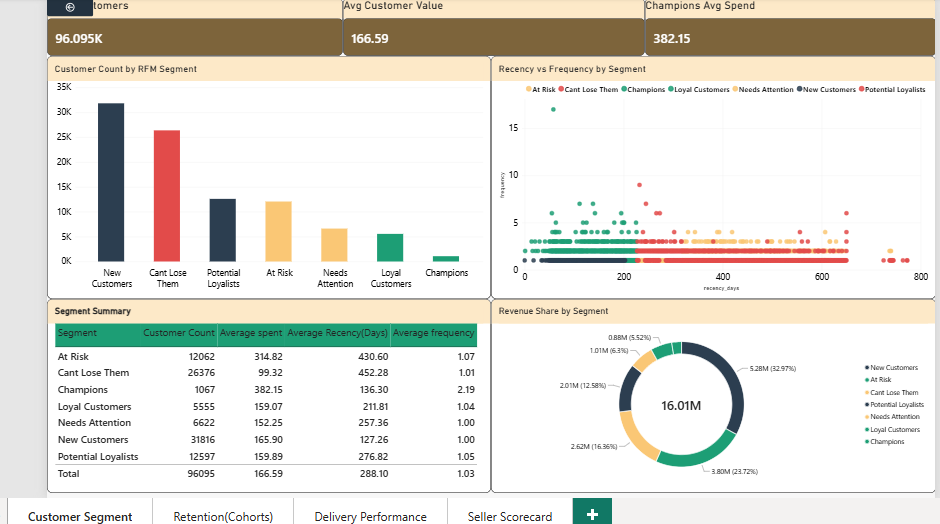

The page's visual inventory and layout, read from the dashboard file:
{"tool":"powerbi","page":{"name":"Customer Segment","canvas":[1920,1080],"ordinal":0},"visuals":[{"type":"cardVisual","title":"Total Customers","fields":{"Data":["CountNonNull(ecommerce_analytics vw_rfm_segments.customer_unique_id)"]},"box":[0,0,639,125],"z":0},{"type":"cardVisual","title":"Avg Customer Value","fields":{"Data":["Avg(ecommerce_analytics vw_rfm_segments.monetary)"]},"box":[639.4,0,652.3,125.3],"z":1000},{"type":"clusteredColumnChart","title":"Customer Count by RFM Segment","fields":{"Category":["ecommerce_analytics vw_rfm_segments.rfm_segment"],"Y":["CountNonNull(ecommerce_analytics vw_rfm_segments.customer_unique_id)"]},"box":[0,125.3,959,524.9],"z":2000},{"type":"scatterChart","title":"Recency vs Frequency by Segment","fields":{"X":["ecommerce_analytics vw_rfm_segments.recency_days"],"Y":["ecommerce_analytics vw_rfm_segments.frequency"],"Series":["ecommerce_analytics vw_rfm_segments.rfm_segment"]},"box":[959,125.3,961.2,524.9],"z":3000},{"type":"tableEx","title":"Segment Summary","fields":{"Values":["ecommerce_analytics vw_rfm_segments.rfm_segment","ecommerce_analytics vw_rfm_segments.customer_unique_id","Avg(ecommerce_analytics vw_rfm_segments.monetary)","Avg(ecommerce_analytics vw_rfm_segments.recency_days)","Avg(ecommerce_analytics vw_rfm_segments.frequency)"]},"box":[0,650.2,959,419],"z":4000},{"type":"actionButton","box":[0,0,100,40],"z":5000},{"type":"donutChart","title":"Revenue Share by Segment","fields":{"Category":["ecommerce_analytics vw_rfm_segments.rfm_segment"],"Y":["Sum(ecommerce_analytics vw_rfm_segments.monetary)"]},"box":[959,650.2,961.2,419],"z":6000},{"type":"cardVisual","title":"Champions Avg Spend","fields":{"Data":["Avg(ecommerce_analytics vw_rfm_segments.monetary)"]},"box":[1291.7,0,629,125],"z":7000}]}

Visuals, with their boxes on the page's 1920x1080 design canvas (x1, y1, x2, y2). These are canvas units, not pixel positions in the 940x524 screenshot, which may show the page scaled, cropped or inside an application window:
"Total Customers" cardVisual: bbox=[0, 0, 639, 125]
"Avg Customer Value" cardVisual: bbox=[639, 0, 1292, 125]
"Customer Count by RFM Segment" clusteredColumnChart: bbox=[0, 125, 959, 650]
"Recency vs Frequency by Segment" scatterChart: bbox=[959, 125, 1920, 650]
"Segment Summary" tableEx: bbox=[0, 650, 959, 1069]
actionButton: bbox=[0, 0, 100, 40]
"Revenue Share by Segment" donutChart: bbox=[959, 650, 1920, 1069]
"Champions Avg Spend" cardVisual: bbox=[1292, 0, 1921, 125]
